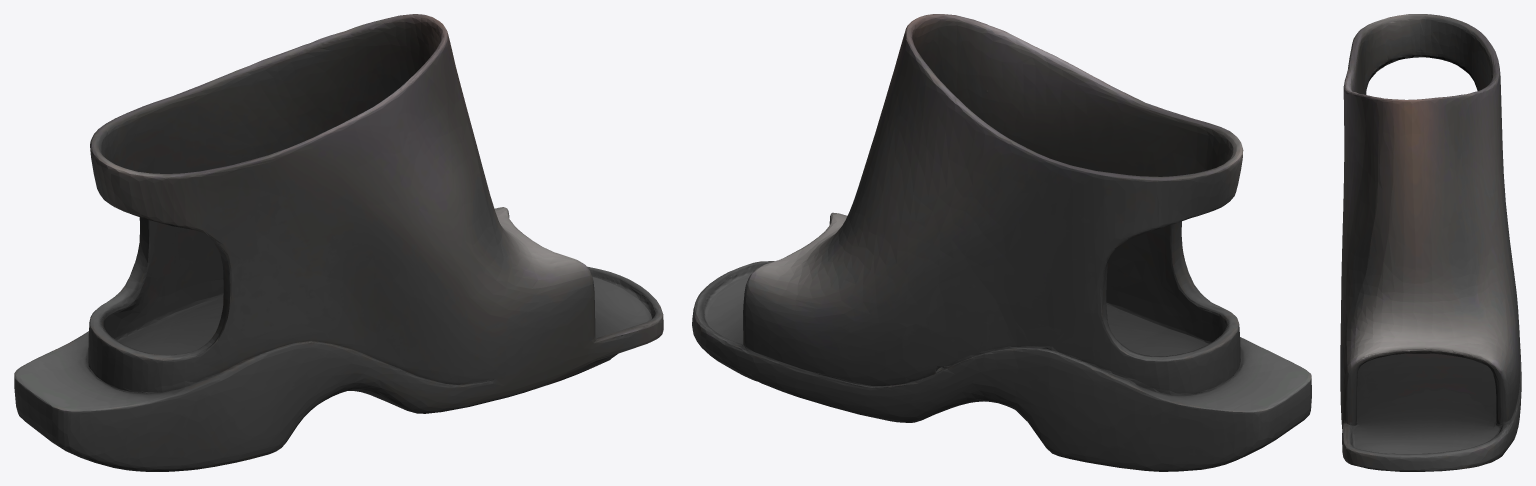
The model's file is shoe-hero.glb.
3 renders of one model, left to right at view 1: azimuth 30°, elevation 25°; view 2: azimuth 150°, elevation 25°; view 3: azimuth 270°, elevation 25°, orthographic. The views are drawn at different scales.
Visible parts, largest first — view 1: geometry_0; view 2: geometry_0; view 3: geometry_0.
Part boxes in pixels (x1=…): geometry_0: x1=14, y1=14, x2=663, y2=471; geometry_0: x1=692, y1=14, x2=1311, y2=471; geometry_0: x1=1340, y1=14, x2=1521, y2=471.
Bounding box in the file's own units: 0.9973 × 0.5614 × 0.3031.
1 material, 1 textured.
